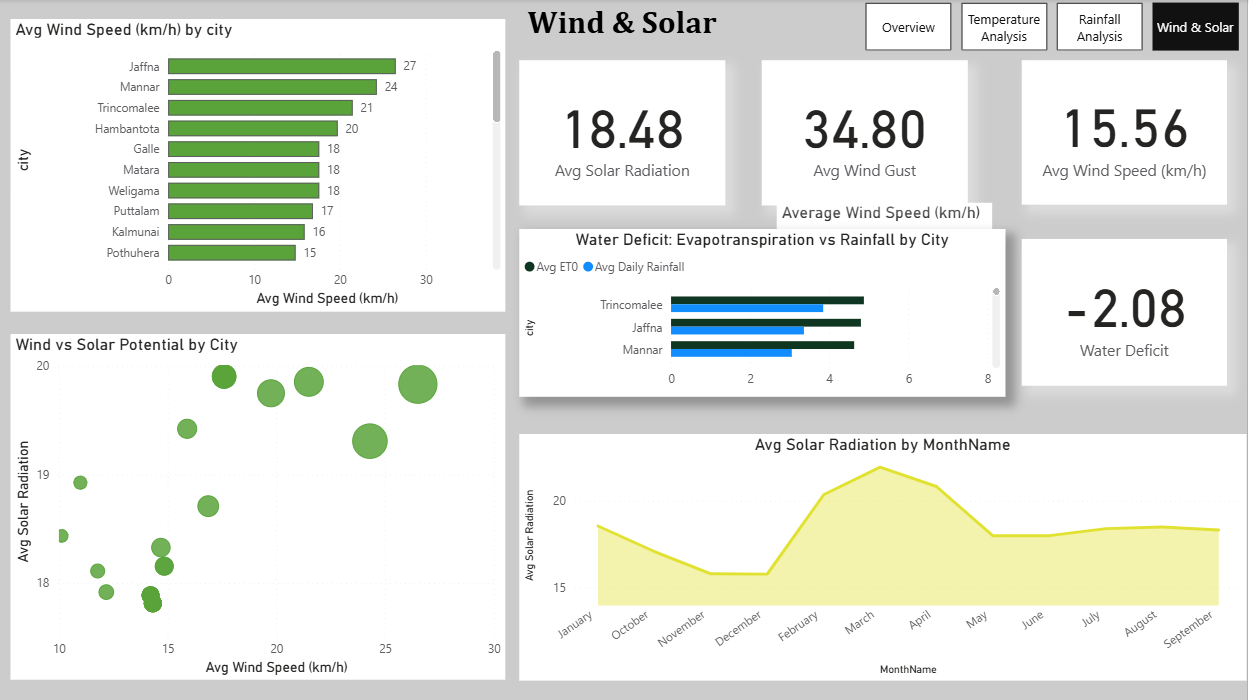

The page's visual inventory and layout, read from the dashboard file:
{"tool":"powerbi","page":{"name":"Wind & Solar","canvas":[1280,720],"ordinal":3},"visuals":[{"type":"textbox","box":[0,0,1279.4,58.8],"z":0},{"type":"gauge","title":"Average Wind Speed (km/h)","fields":{"Y":["DateTable.Avg Wind Speed (km/h)"],"MaxValue":["DateTable.Wind Max"],"MinValue":["DateTable.Wind Min"],"TargetValue":["DateTable.Wind Target"]},"box":[798.1,209.4,220.8,150.9],"z":1},{"type":"clusteredBarChart","fields":{"Category":["SriLanka_Weather_in_Years.city"],"Y":["DateTable.Avg Wind Speed (km/h)"]},"box":[13.2,20.8,507.5,300],"z":2},{"type":"scatterChart","title":"Wind vs Solar Potential by City","fields":{"X":["DateTable.Avg Wind Speed (km/h)"],"Y":["DateTable.Avg Solar Radiation"],"Category":["SriLanka_Weather_in_Years.city"],"Size":["DateTable.Wind Energy Score"]},"box":[13.2,343.4,507.5,354.7],"z":3},{"type":"stackedAreaChart","fields":{"Category":["SriLanka_Weather_in_Years.MonthName"],"Y":["DateTable.Avg Solar Radiation"]},"box":[534,445.3,745.3,252.8],"z":4},{"type":"clusteredBarChart","title":"Water Deficit: Evapotranspiration vs Rainfall by City","fields":{"Category":["SriLanka_Weather_in_Years.city"],"Y":["DateTable.Avg ET0","DateTable.Avg Daily Rainfall"]},"box":[534,235.8,498.1,171.7],"z":5},{"type":"card","fields":{"Values":["DateTable.Avg Wind Speed (km/h)"]},"box":[1050,62.5,210.7,148.2],"z":6},{"type":"card","fields":{"Values":["DateTable.Avg Wind Gust"]},"box":[783,62.3,211.3,149.1],"z":7},{"type":"card","fields":{"Values":["DateTable.Avg Solar Radiation"]},"box":[534,62.3,211.3,149.1],"z":8},{"type":"card","fields":{"Values":["DateTable.Water Deficit"]},"box":[1050,246.4,210.7,150],"z":9},{"type":"pageNavigator","box":[889.3,3.6,385.7,50],"z":10}]}

Visuals, with their boxes in screenshot pixels (x1, y1, x2, y2), scaled from the page's 1280x720 canvas onto the 1249x700 screenshot:
textbox: (left=0, top=0, right=1248, bottom=57)
"Average Wind Speed (km/h)" gauge: (left=779, top=204, right=994, bottom=350)
clusteredBarChart - SriLanka_Weather_in_Years.city x DateTable.Avg Wind Speed (km/h): (left=13, top=20, right=508, bottom=312)
"Wind vs Solar Potential by City" scatterChart: (left=13, top=334, right=508, bottom=679)
stackedAreaChart - SriLanka_Weather_in_Years.MonthName x DateTable.Avg Solar Radiation: (left=521, top=433, right=1248, bottom=679)
"Water Deficit: Evapotranspiration vs Rainfall by City" clusteredBarChart: (left=521, top=229, right=1007, bottom=396)
card - DateTable.Avg Wind Speed (km/h): (left=1025, top=61, right=1230, bottom=205)
card - DateTable.Avg Wind Gust: (left=764, top=61, right=970, bottom=206)
card - DateTable.Avg Solar Radiation: (left=521, top=61, right=727, bottom=206)
card - DateTable.Water Deficit: (left=1025, top=240, right=1230, bottom=385)
pageNavigator: (left=868, top=4, right=1244, bottom=52)
